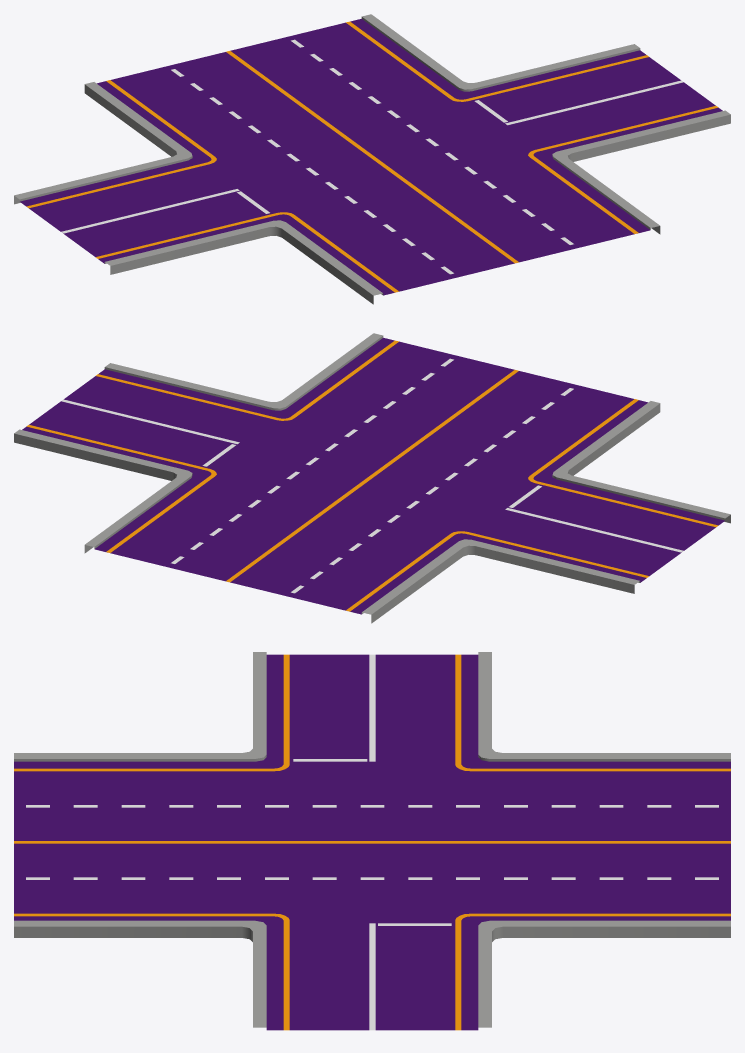
Rendered from Road_C_2L_2_5.fbx.
3 renders of one model, top to bottom at view 1: azimuth 30°, elevation 25°; view 2: azimuth 150°, elevation 25°; view 3: azimuth 270°, elevation 25°, orthographic. The views are drawn at different scales.
Visible parts, largest first — view 1: Road_C_2L_2_5; view 2: Road_C_2L_2_5; view 3: Road_C_2L_2_5.
Part boxes in pixels (x1,y1,x2,y2): Road_C_2L_2_5: (14,14,730,304); Road_C_2L_2_5: (14,333,730,623); Road_C_2L_2_5: (14,652,730,1030).
Size of the model in its own units: 2975 by 41.48 by 2400.
